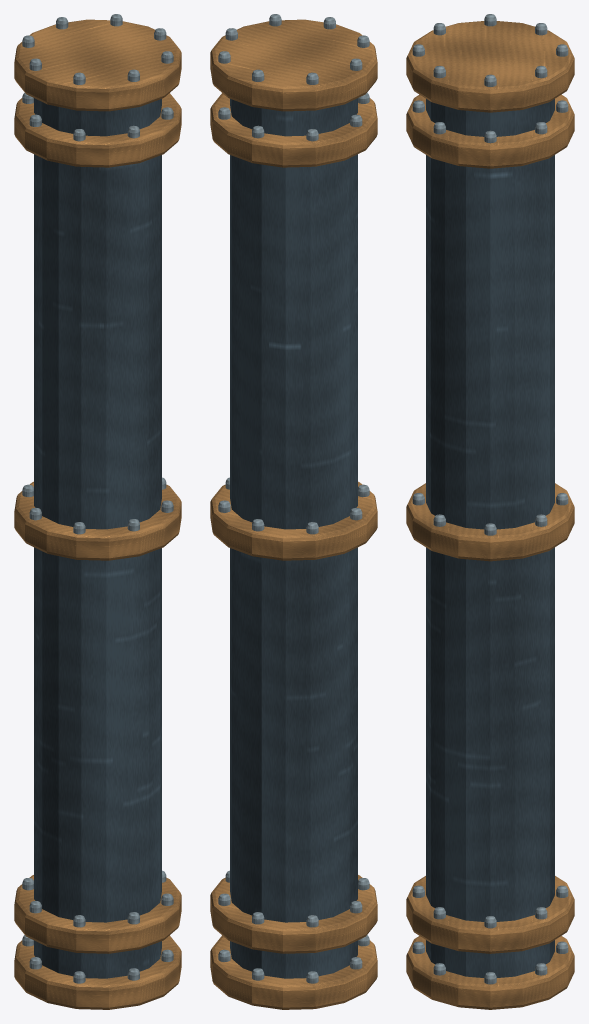
File: pipe.glb
3 views of the same model, side by side, from view 1: azimuth 30°, elevation 25°; view 2: azimuth 150°, elevation 25°; view 3: azimuth 270°, elevation 25° (orthographic).
Parts seen in each view (by area): view 1: pipe; view 2: pipe; view 3: pipe.
Boxes of the visible parts, <box> form: pipe: <box>14,14,181,1009</box>; pipe: <box>210,14,377,1009</box>; pipe: <box>406,14,574,1009</box>.
Bounding box in the file's own units: 0.68 × 4.15 × 0.68.
3 materials, 3 textured.
